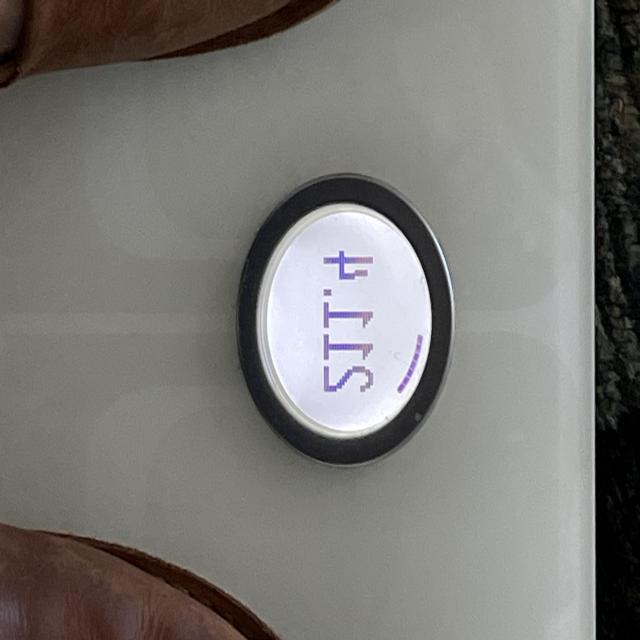ws: (237, 175, 454, 468)
